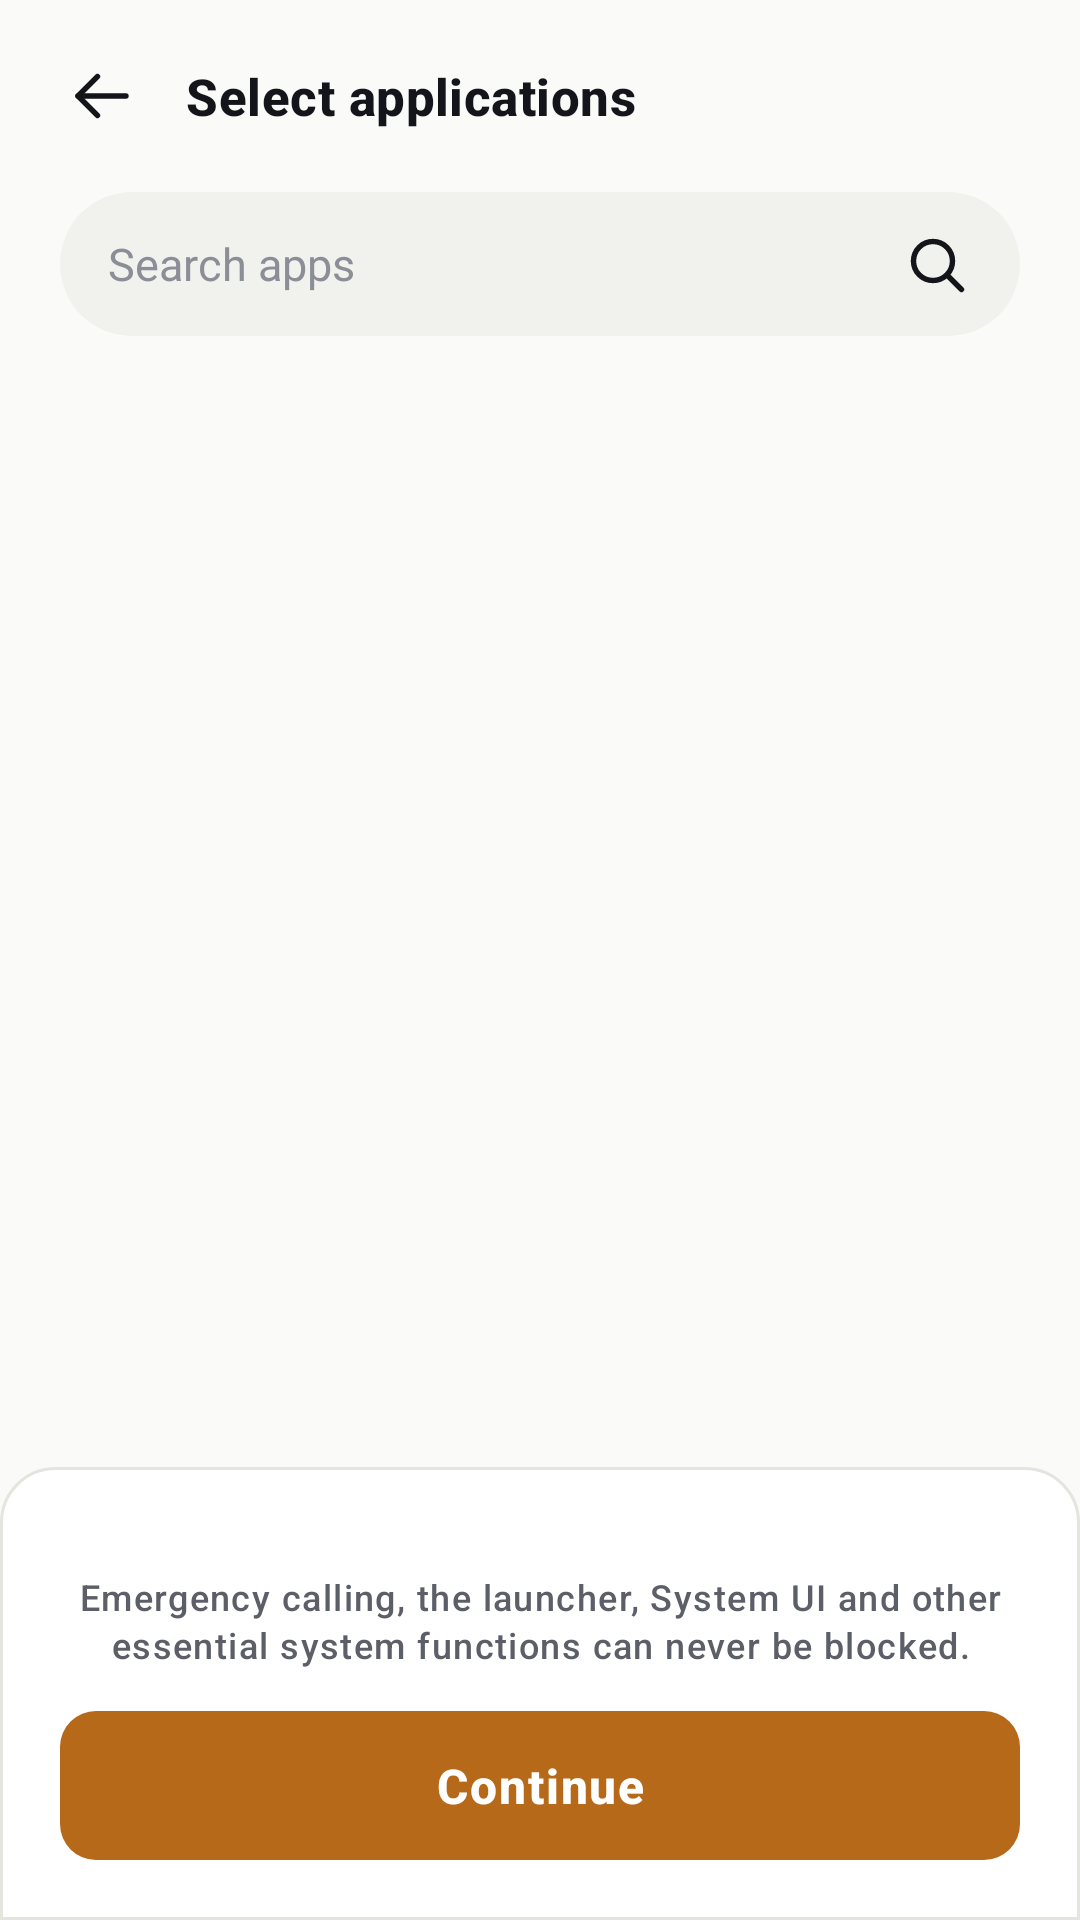

Where icons sit on this 1080x1920 app screen, as (x1, y1, x2, y2):
Back: (75, 73, 129, 119)
